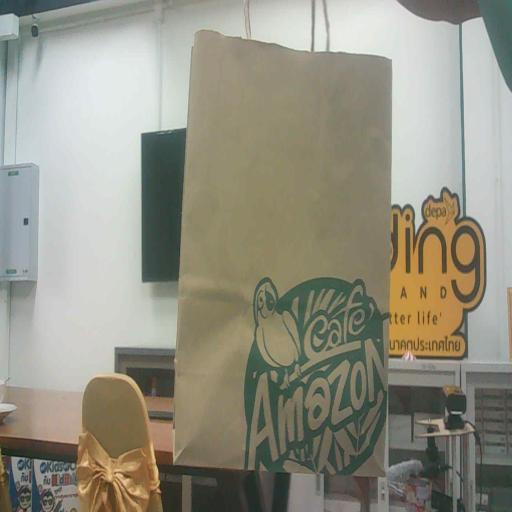bag: (172, 15, 391, 492)
